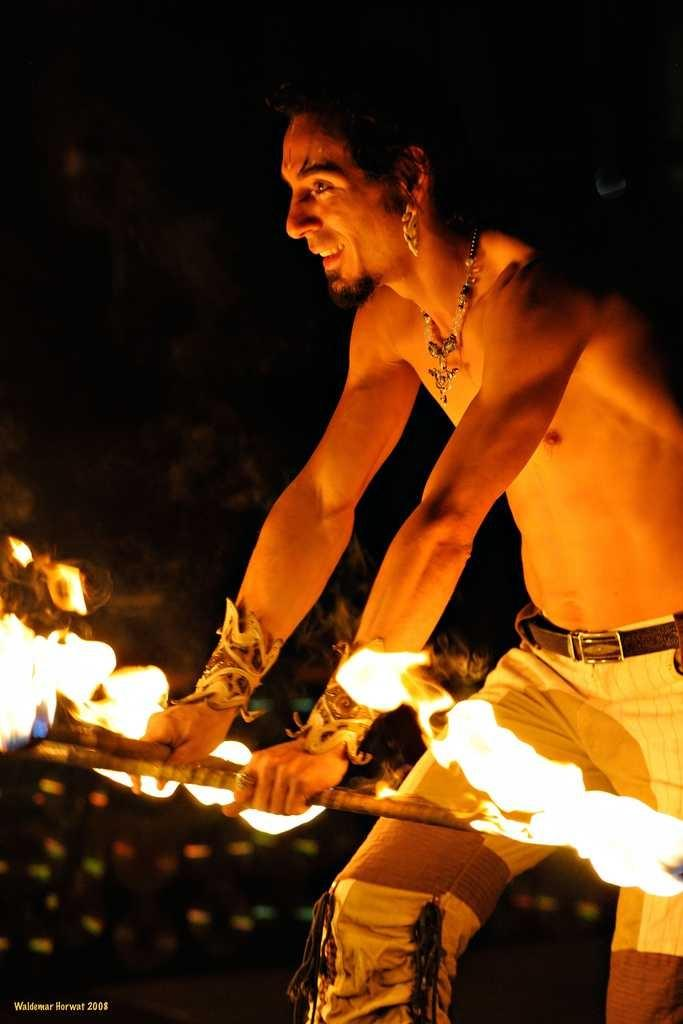fire: (560, 808, 678, 872), (8, 645, 108, 708)
